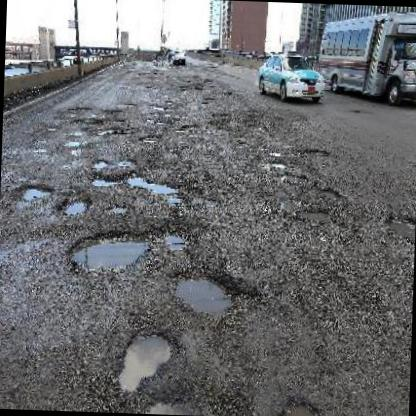pothole: (66, 224, 152, 275), (115, 327, 176, 394), (169, 268, 238, 318), (124, 172, 180, 196), (275, 392, 323, 416), (386, 211, 416, 242), (58, 192, 92, 216), (19, 180, 56, 202), (90, 172, 122, 190), (296, 206, 333, 221), (91, 157, 110, 170)
